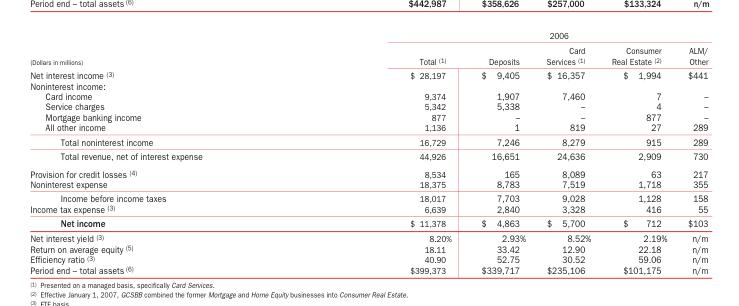table: (29, 29, 707, 275)
table column: (29, 29, 305, 275), (305, 29, 465, 275), (600, 29, 676, 275), (465, 29, 535, 275), (535, 29, 600, 275), (676, 29, 707, 275)
table column header: (29, 29, 707, 67)
table projected row header: (29, 80, 707, 90)
table row: (29, 42, 707, 67), (29, 148, 707, 164), (29, 215, 707, 230), (29, 134, 707, 148), (29, 164, 707, 178), (29, 29, 707, 42), (29, 67, 707, 80), (29, 121, 707, 134), (29, 178, 707, 191), (29, 230, 707, 243), (29, 191, 707, 203), (29, 203, 707, 215), (29, 90, 707, 101), (29, 253, 707, 264), (29, 264, 707, 275), (29, 80, 707, 90), (29, 101, 707, 111), (29, 111, 707, 121), (29, 243, 707, 253)
table spanning cell: (29, 29, 305, 67), (305, 29, 707, 42)
